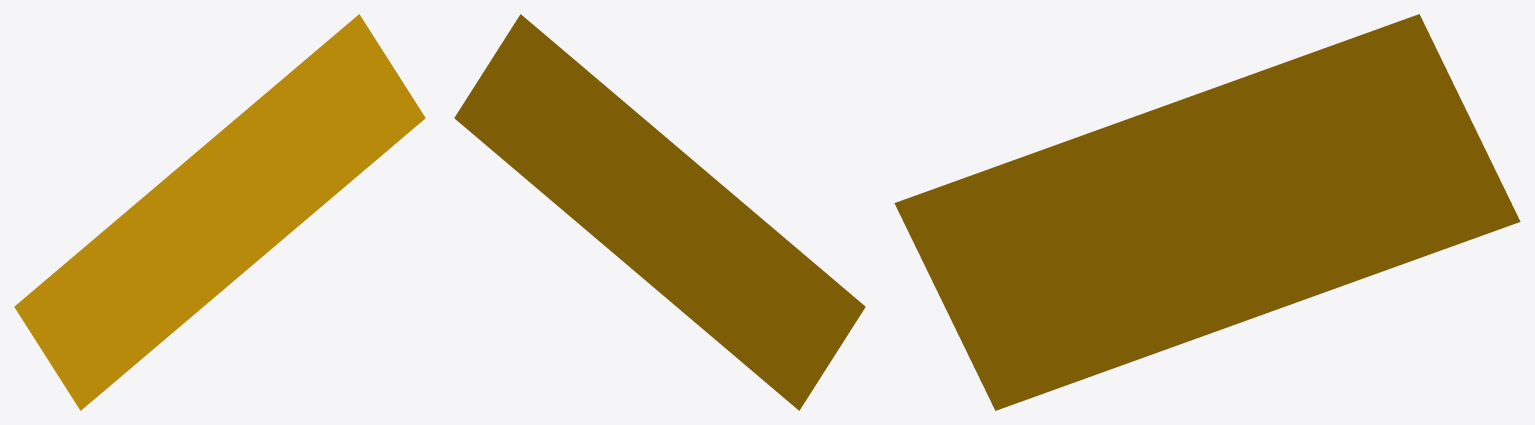
File: deep_hierarchy.glb
3 views of the same model, side by side, from view 1: azimuth 30°, elevation 25°; view 2: azimuth 150°, elevation 25°; view 3: azimuth 330°, elevation 25° (orthographic). The views are drawn at different scales.
Visible parts, largest first — view 1: RWX_Mesh; view 2: RWX_Mesh; view 3: RWX_Mesh.
Boxes of the visible parts, box(x1,y1,x2,y2) form: RWX_Mesh: box(14, 14, 425, 410); RWX_Mesh: box(454, 14, 865, 410); RWX_Mesh: box(894, 14, 1520, 410).
Size of the model in its own units: 3.1 by 2.37 by 0.
